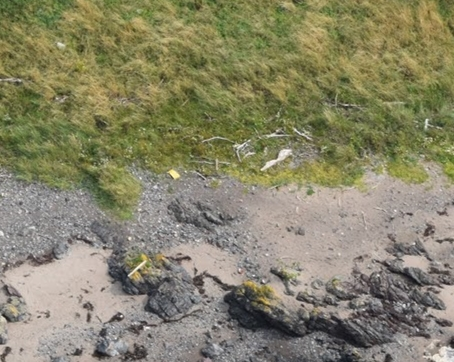straight_bar: (255, 142, 297, 178)
tube: (125, 256, 149, 279)
white_in_green: (153, 153, 198, 191)
